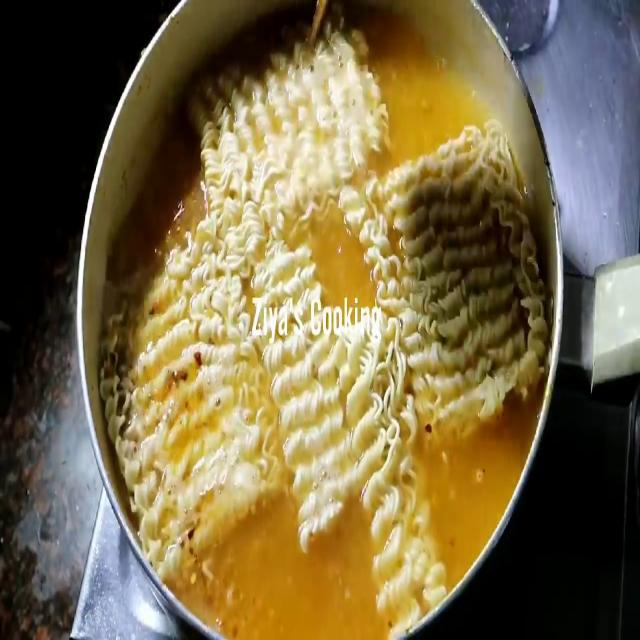Wet Waste: (124, 86, 502, 605)
